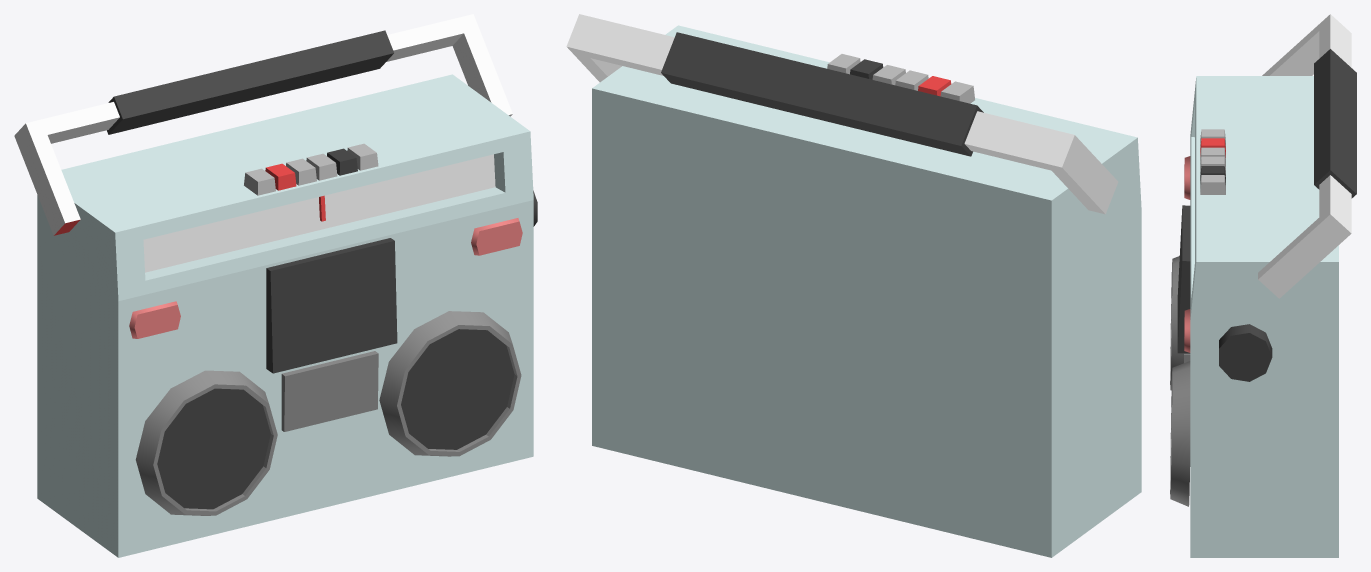
Rendered from Radio.obj.
3 renders of one model, left to right at view 1: azimuth 30°, elevation 25°; view 2: azimuth 150°, elevation 25°; view 3: azimuth 270°, elevation 25°, orthographic. The views are drawn at different scales.
Visible parts, largest first — view 1: Radio; view 2: Radio; view 3: Radio.
Boxes of the visible parts, x1,y1,x2,y2 form: Radio: (14,14,537,557); Radio: (566,14,1141,557); Radio: (1170,14,1356,557).
Size of the model in its own units: 0.4655 by 0.3824 by 0.182.
